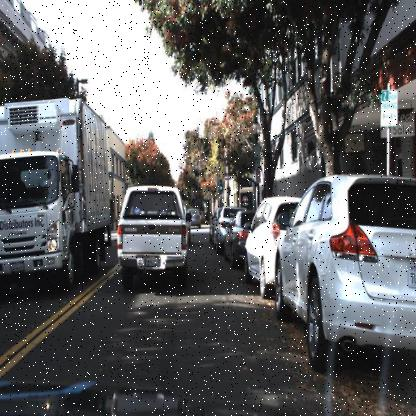car: (271, 170, 415, 373), (0, 90, 117, 295), (113, 175, 195, 294), (243, 194, 306, 300), (219, 208, 261, 272), (224, 209, 250, 268), (212, 211, 233, 255), (182, 196, 196, 248), (190, 207, 202, 230)
trafficLight-Green: (218, 176, 226, 193)
truck: (0, 96, 112, 288)
